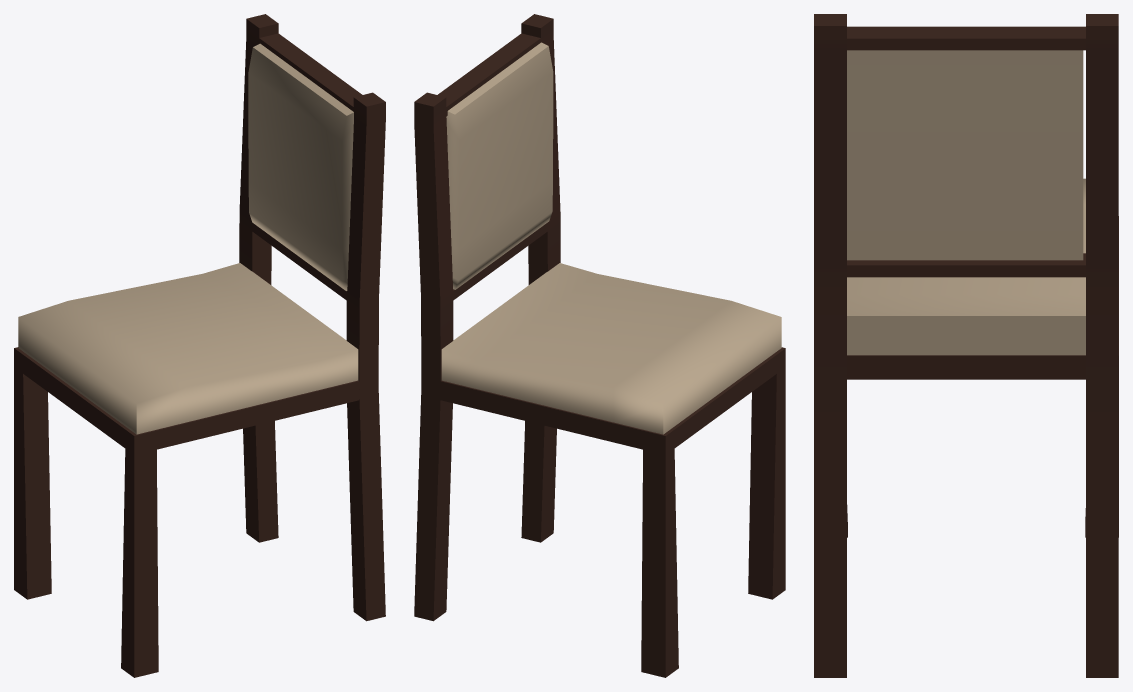
Rendered from chair.fbx.
3 views of the same model, side by side, from view 1: azimuth 30°, elevation 25°; view 2: azimuth 150°, elevation 25°; view 3: azimuth 270°, elevation 25° (orthographic). The views are drawn at different scales.
Parts seen in each view (by area): view 1: chair1; view 2: chair1; view 3: chair1.
Boxes of the visible parts, bbox=[...] form: chair1: bbox=[14, 14, 385, 677]; chair1: bbox=[414, 14, 785, 677]; chair1: bbox=[814, 14, 1118, 677].
Size of the model in its own units: 0.6448 by 1.26 by 0.5339.
